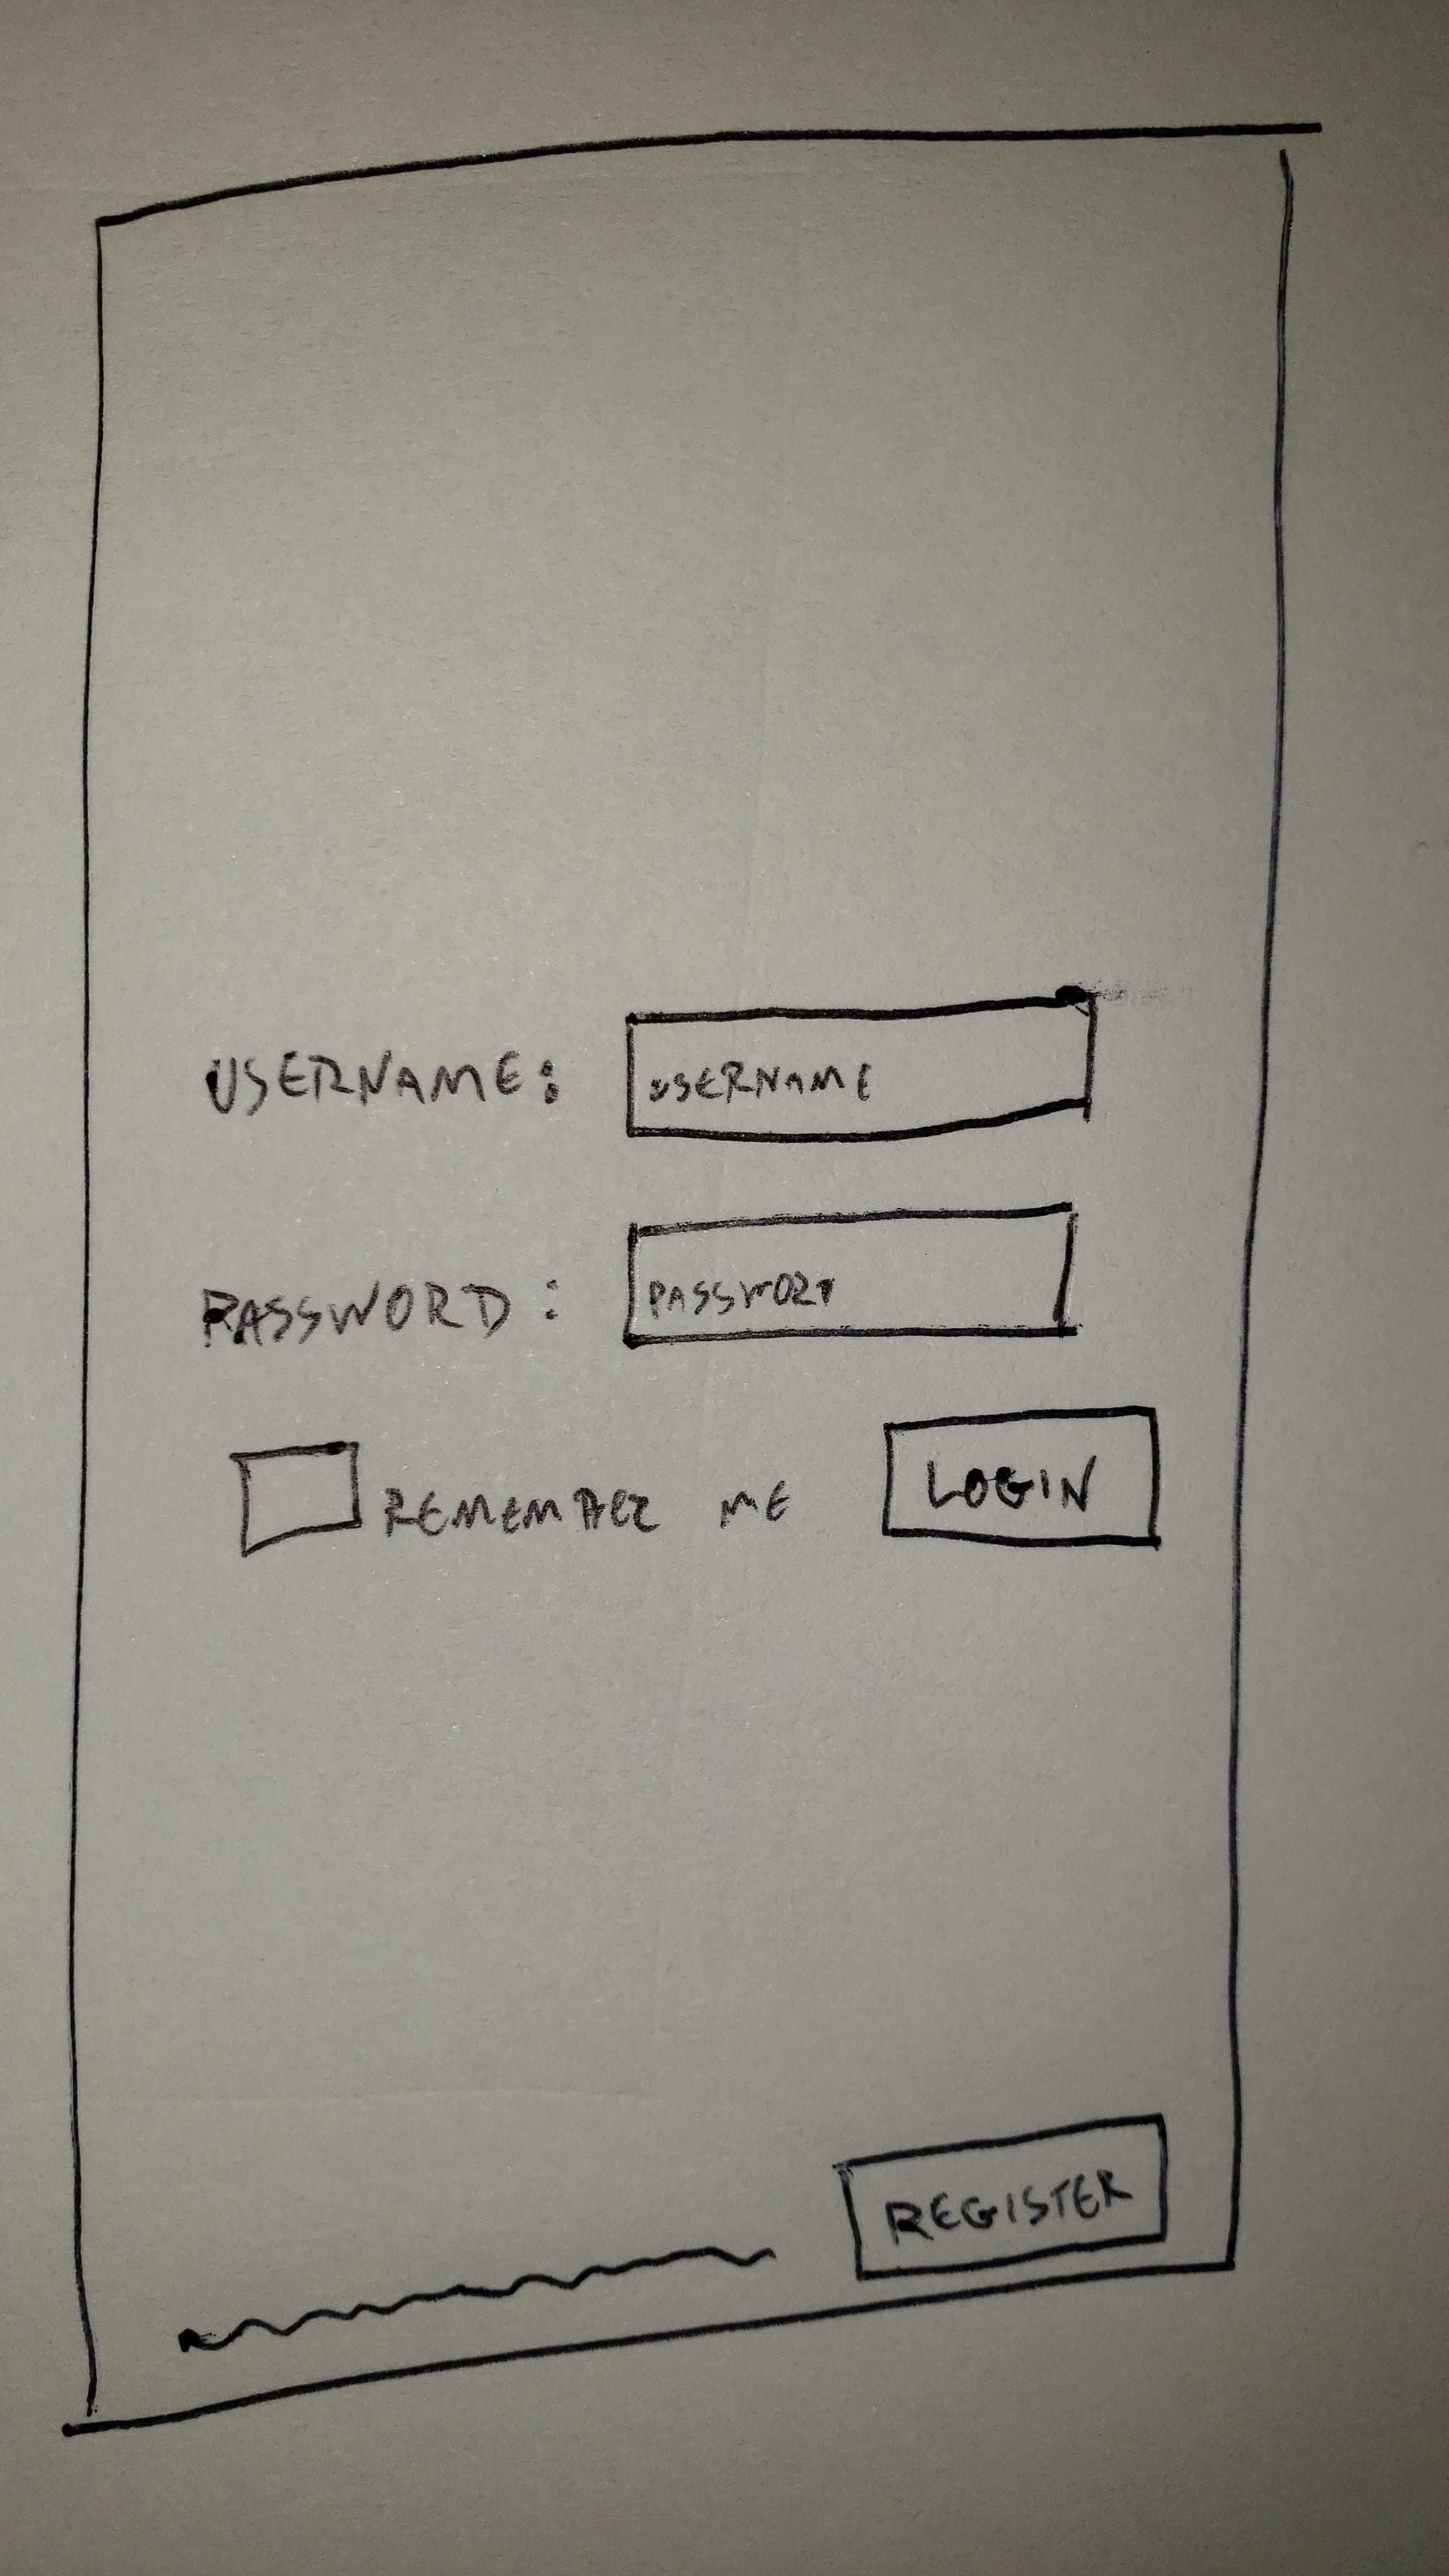Button: (830, 2112, 1173, 2275), (879, 1405, 1162, 1548)
CheckBox: (234, 1437, 800, 1564)
Label: (170, 2233, 778, 2358), (195, 1265, 563, 1353), (203, 1047, 561, 1123)
Screen: (60, 119, 1323, 2434)
TextBox: (621, 991, 1099, 1143), (617, 1201, 1079, 1350)
